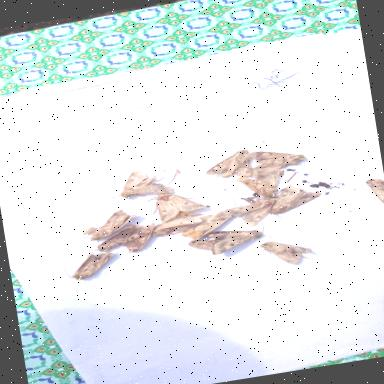abw: (173, 195, 241, 243), (96, 164, 174, 205), (136, 182, 206, 226), (69, 206, 140, 248), (74, 220, 152, 255), (260, 180, 325, 220), (206, 218, 273, 256), (202, 146, 268, 182), (219, 196, 281, 230), (249, 143, 308, 175), (62, 248, 116, 282), (259, 234, 312, 268), (234, 168, 284, 202), (148, 213, 204, 238), (121, 222, 159, 254), (168, 234, 222, 256)
